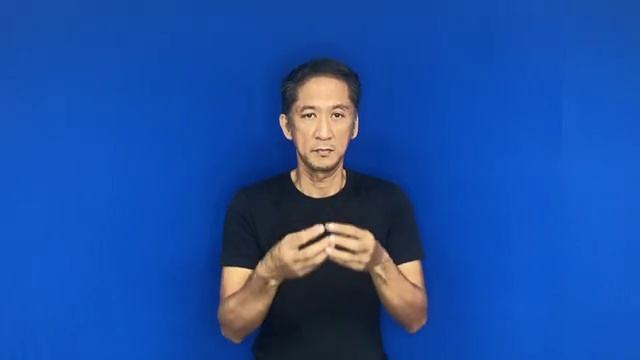egg: (244, 213, 395, 284)
